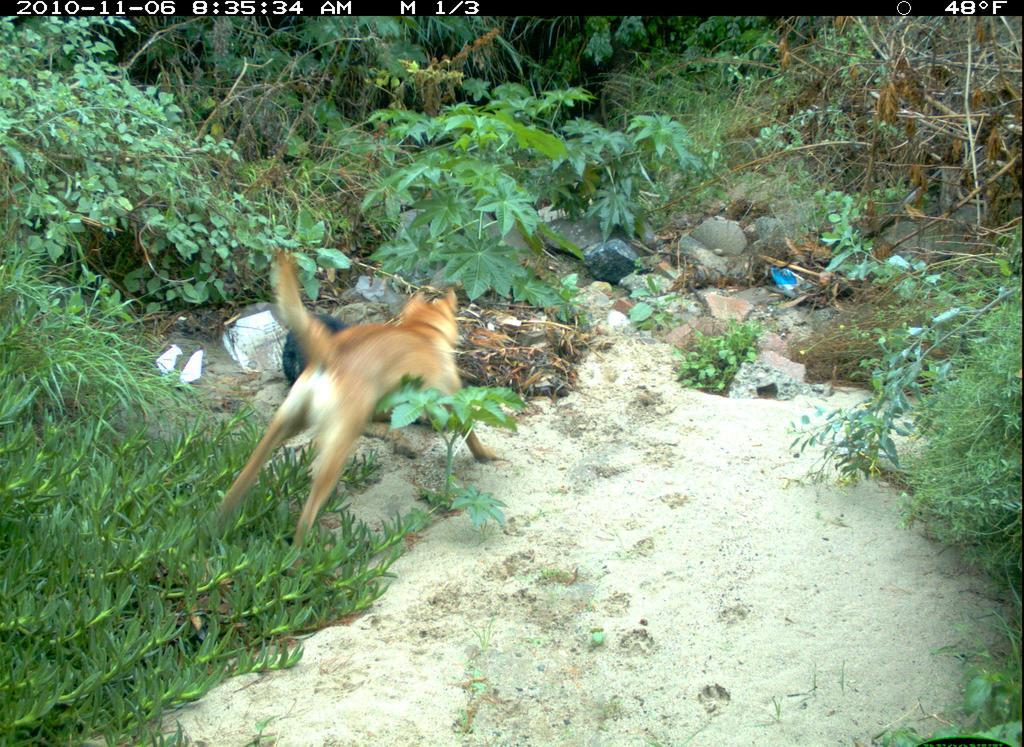dog: (209, 232, 511, 564)
